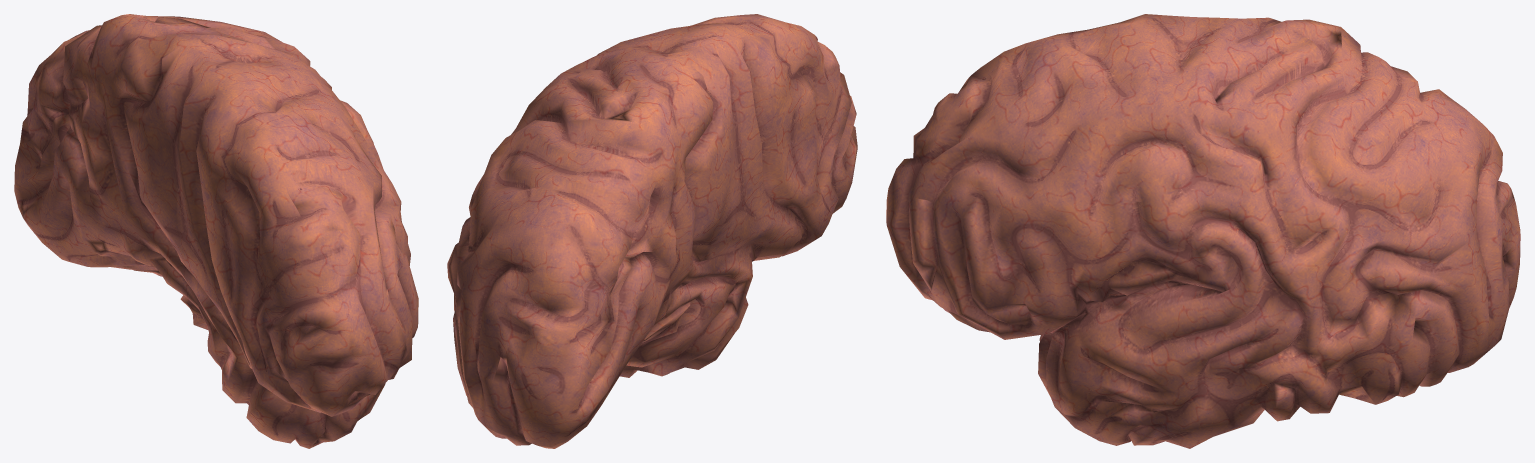
Rendered from BrainLeft.FBX.
3 views of the same model, side by side, from view 1: azimuth 30°, elevation 25°; view 2: azimuth 150°, elevation 25°; view 3: azimuth 270°, elevation 25° (orthographic). The views are drawn at different scales.
Visible parts, largest first — view 1: BrainLeft; view 2: BrainLeft; view 3: BrainLeft.
Boxes of the visible parts, x1=… form: BrainLeft: x1=14, y1=14, x2=418, y2=448; BrainLeft: x1=447, y1=14, x2=857, y2=448; BrainLeft: x1=886, y1=14, x2=1520, y2=448.
Bounding box in the file's own units: 54.6 × 134 × 89.29.
